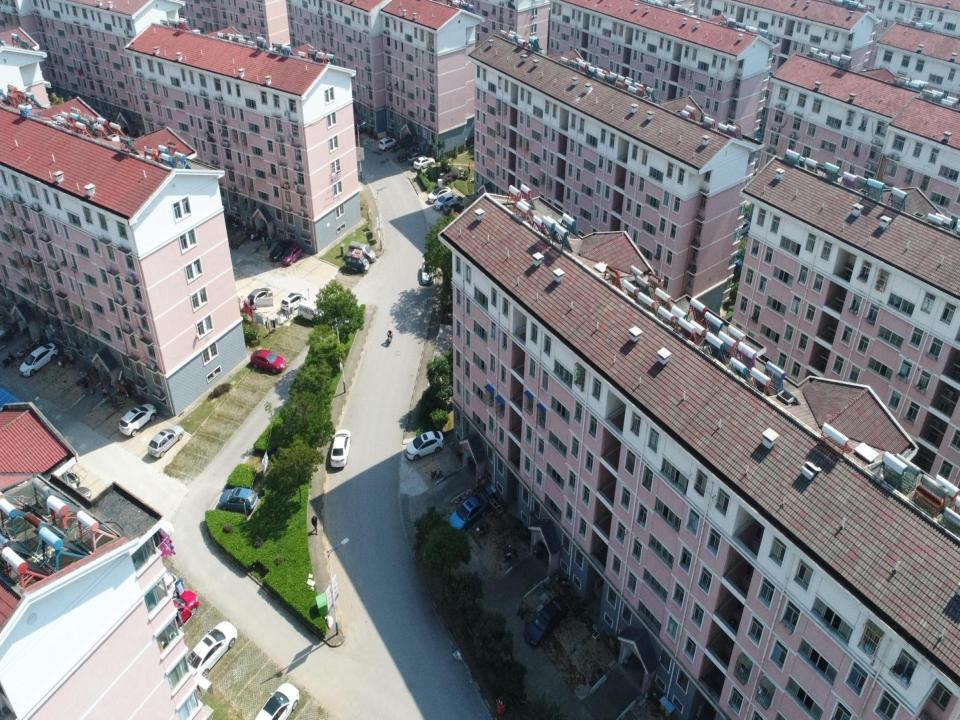car: (184, 620, 238, 680), (524, 594, 568, 648), (254, 682, 300, 719), (450, 492, 487, 532), (118, 402, 157, 438), (147, 422, 184, 458), (406, 430, 444, 462), (219, 486, 258, 514), (250, 349, 286, 374), (171, 591, 197, 625), (330, 426, 351, 468), (246, 285, 273, 310), (280, 292, 308, 312), (269, 240, 293, 262), (156, 572, 178, 596), (279, 245, 304, 265), (427, 185, 451, 203), (413, 156, 437, 172), (422, 258, 435, 286), (433, 194, 457, 209), (441, 199, 464, 213), (378, 137, 396, 152), (62, 472, 80, 487), (73, 486, 91, 499), (408, 152, 424, 164)
van: (298, 298, 328, 323), (344, 250, 370, 272), (349, 241, 376, 261)
